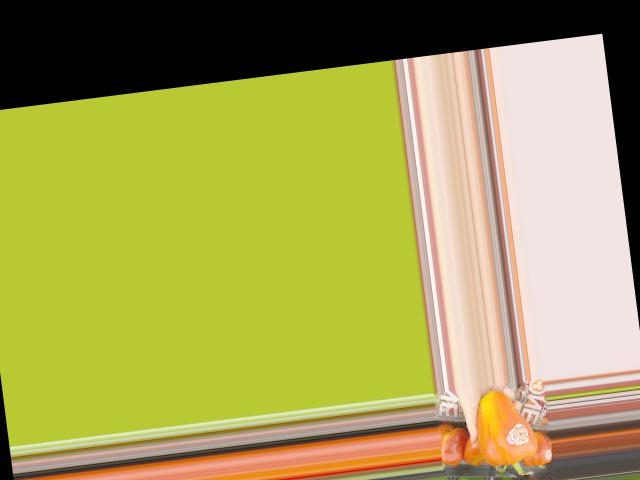bell_pepper: (466, 387, 543, 480)
